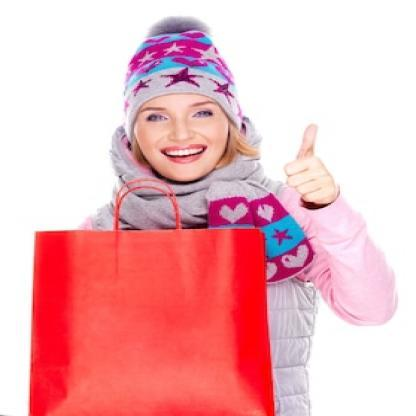thumb_up: (283, 116, 340, 214)
